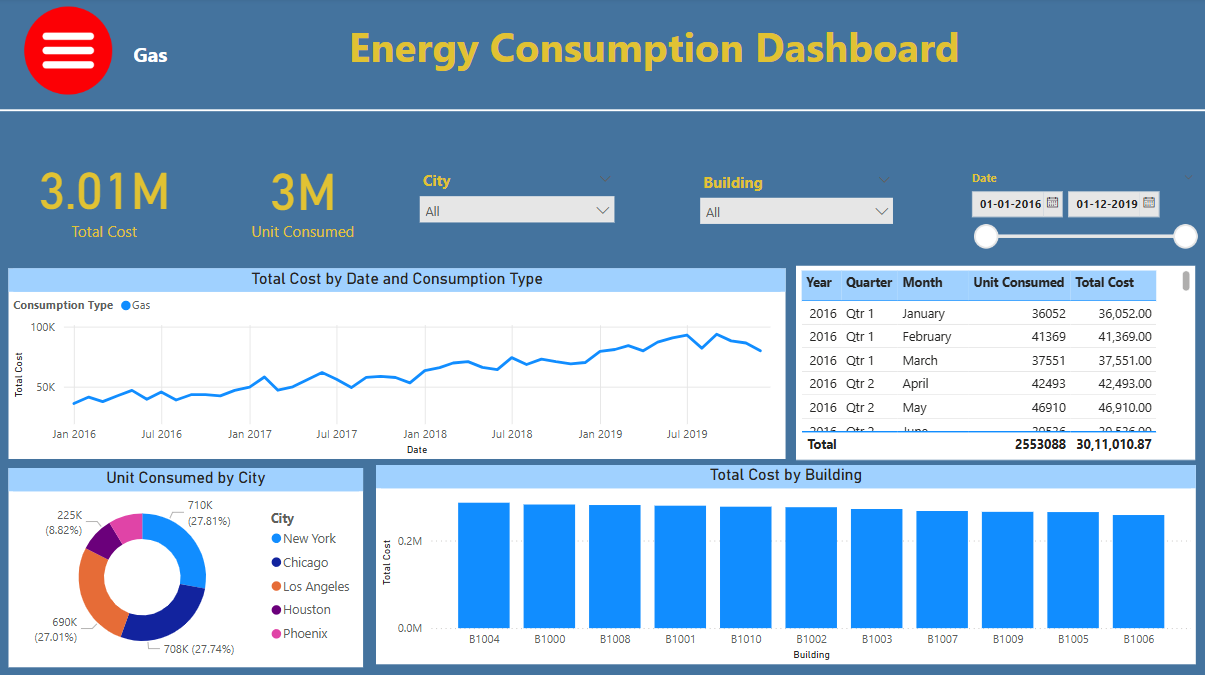

Layout of this report page (visuals, bound fields, positions):
{"tool":"powerbi","page":{"name":"Gas","canvas":[1280,720],"ordinal":3},"visuals":[{"type":"shape","box":[0,97,1280.4,46.1],"z":0},{"type":"image","box":[11.1,4.8,127.2,103.4],"z":1000},{"type":"textbox","box":[278.4,17.5,835.1,79.5],"z":2000},{"type":"actionButton","box":[25.4,10.8,100.2,100.2],"z":3000},{"type":"actionButton","box":[23.9,0,100.2,100.2],"z":4000},{"type":"textbox","box":[138.4,39.8,112.9,41.4],"z":5000},{"type":"card","fields":{"Values":["Building Master.Total Cost"]},"box":[11.1,155.9,202,106.6],"z":6000},{"type":"card","fields":{"Values":["Energy Consumptions.Unit Consumed"]},"box":[225.9,155.9,194.1,108.2],"z":7000},{"type":"slicer","fields":{"Values":["Building Master.City"]},"box":[437.4,178.1,225.9,84.3],"z":8000},{"type":"slicer","fields":{"Values":["Energy Consumptions.Building"]},"box":[734.9,179.7,224.3,84.3],"z":9000},{"type":"slicer","fields":{"Values":["Energy Consumptions.Date"]},"box":[1019.6,178.1,260.9,108.2],"z":10000},{"type":"lineChart","fields":{"Category":["Energy Consumptions.Date"],"Y":["Building Master.Total Cost"],"Series":["Energy Consumptions.Consumption Type"]},"box":[11.3,287.2,823.9,202.2],"z":11000},{"type":"donutChart","fields":{"Category":["Building Master.City"],"Y":["Energy Consumptions.Unit Consumed"]},"box":[11.3,498.9,376.1,211.7],"z":12000},{"type":"clusteredColumnChart","fields":{"Category":["Energy Consumptions.Building"],"Y":["Building Master.Total Cost"]},"box":[400.6,497,869.3,211.7],"z":13000},{"type":"tableEx","fields":{"Values":["Energy Consumptions.Date.Variation.Date Hierarchy.Year","Energy Consumptions.Date.Variation.Date Hierarchy.Quarter","Energy Consumptions.Date.Variation.Date Hierarchy.Month","Energy Consumptions.Unit Consumed","Building Master.Total Cost"]},"box":[846.6,285.4,423.3,206],"z":14000},{"type":"actionButton","box":[24.1,8.6,100,98.3],"z":15000},{"type":"actionButton","box":[18.5,13.2,119,95.2],"z":18000}]}

Visuals, with their boxes in screenshot pixels (x1, y1, x2, y2), scaled from the page's 1280x720 canvas onto the 1205x675 screenshot:
shape: BBox(0, 91, 1204, 134)
image: BBox(10, 4, 130, 101)
textbox: BBox(262, 16, 1048, 91)
actionButton: BBox(24, 10, 118, 104)
actionButton: BBox(22, 0, 117, 94)
textbox: BBox(130, 37, 237, 76)
card - Building Master.Total Cost: BBox(10, 146, 201, 246)
card - Energy Consumptions.Unit Consumed: BBox(213, 146, 395, 248)
slicer - Building Master.City: BBox(412, 167, 624, 246)
slicer - Energy Consumptions.Building: BBox(692, 168, 903, 248)
slicer - Energy Consumptions.Date: BBox(960, 167, 1204, 268)
lineChart - Energy Consumptions.Date x Building Master.Total Cost: BBox(11, 269, 786, 459)
donutChart - Building Master.City x Energy Consumptions.Unit Consumed: BBox(11, 468, 365, 666)
clusteredColumnChart - Energy Consumptions.Building x Building Master.Total Cost: BBox(377, 466, 1195, 664)
tableEx - Energy Consumptions.Date.Variation.Date Hierarchy.Year x Energy Consumptions.Date.Variation.Date Hierarchy.Quarter: BBox(797, 268, 1195, 461)
actionButton: BBox(23, 8, 117, 100)
actionButton: BBox(17, 12, 129, 102)
